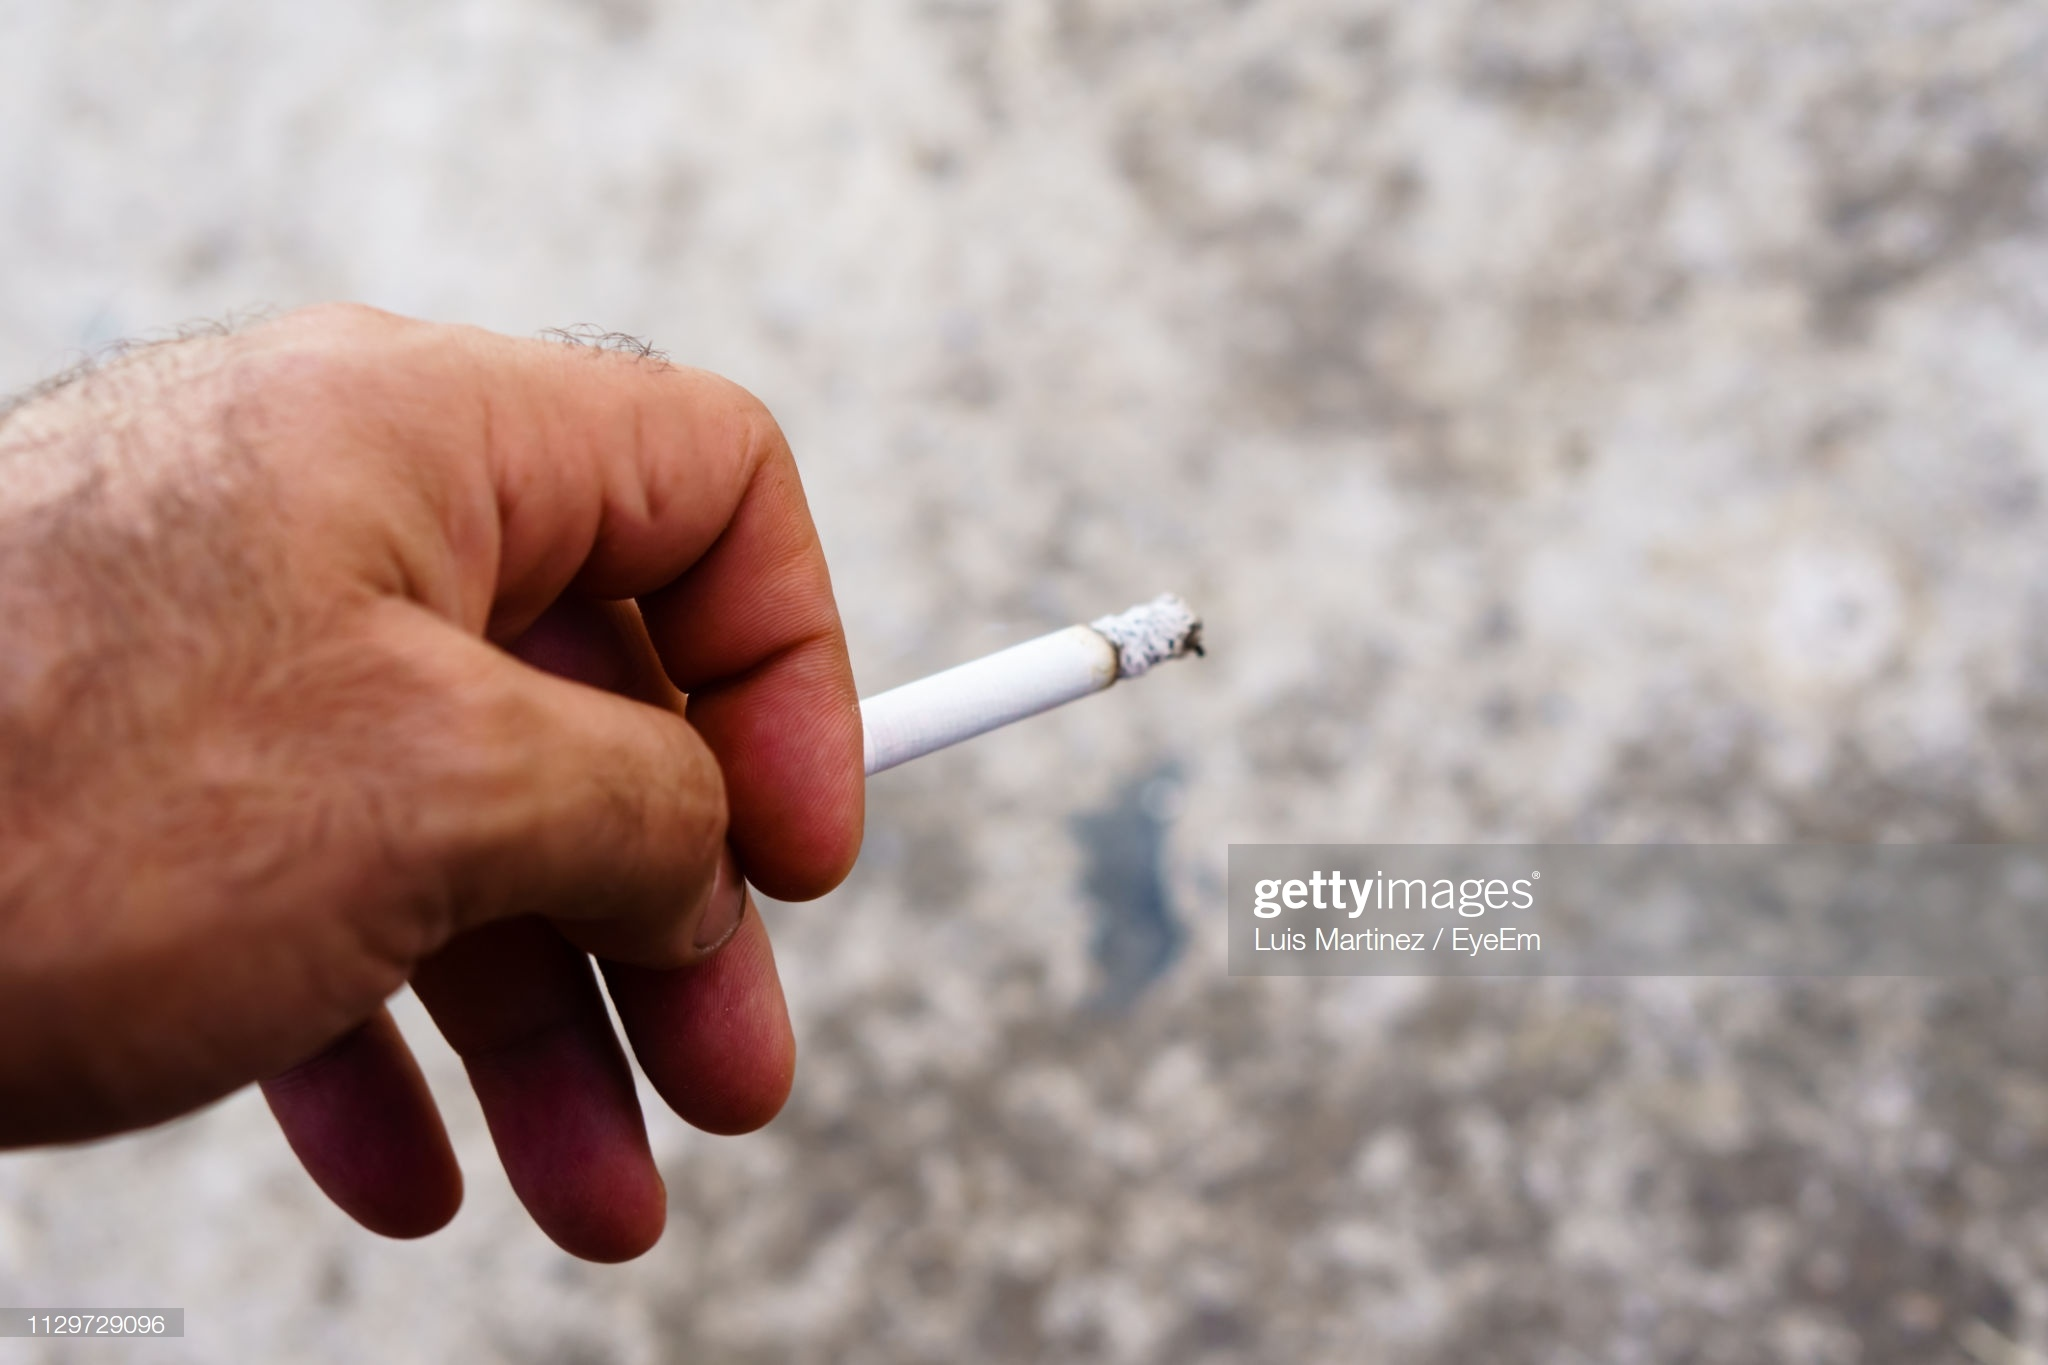sigaretta: (767, 596, 1198, 771)
